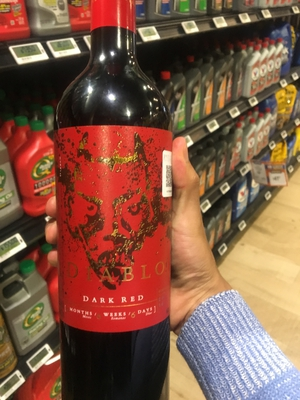diablo dark red: (50, 17, 178, 400)
